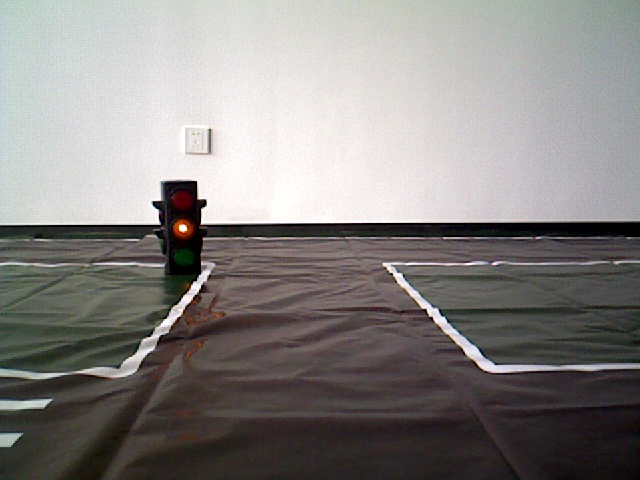yellow: (155, 180, 205, 271)
